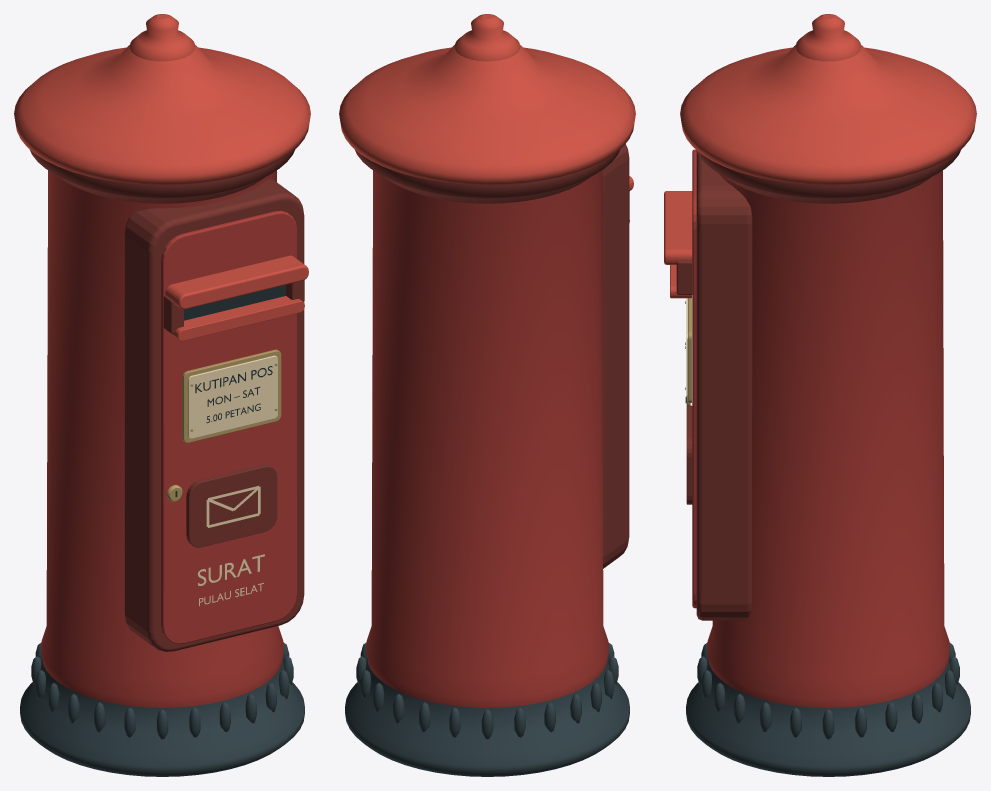
The picture shows the model from 3 angles, left to right: view 1: azimuth 30°, elevation 25°; view 2: azimuth 150°, elevation 25°; view 3: azimuth 270°, elevation 25°; orthographic projection.
Visible parts, largest first — view 1: Cast Shell, Service Door, Crown, Mail Aperture, Details, Lettering, Graphics; view 2: Cast Shell, Crown, Service Door; view 3: Cast Shell, Crown, Service Door, Mail Aperture, Details.
Boxes of the visible parts, x1=… form: Cast Shell: x1=20, y1=170, x2=304, y2=776; Service Door: x1=124, y1=179, x2=304, y2=651; Crown: x1=14, y1=14, x2=310, y2=203; Mail Aperture: x1=163, y1=255, x2=308, y2=341; Details: x1=186, y1=464, x2=277, y2=547; Lettering: x1=195, y1=366, x2=272, y2=606; Graphics: x1=206, y1=486, x2=260, y2=527; Cast Shell: x1=345, y1=170, x2=629, y2=776; Crown: x1=339, y1=14, x2=635, y2=203; Service Door: x1=602, y1=144, x2=629, y2=568; Cast Shell: x1=686, y1=170, x2=970, y2=776; Crown: x1=680, y1=14, x2=976, y2=203; Service Door: x1=686, y1=149, x2=752, y2=620; Mail Aperture: x1=664, y1=191, x2=692, y2=298; Details: x1=686, y1=405, x2=692, y2=504.
Bounding box in the file's own units: 0.592 × 1.55 × 0.624.
